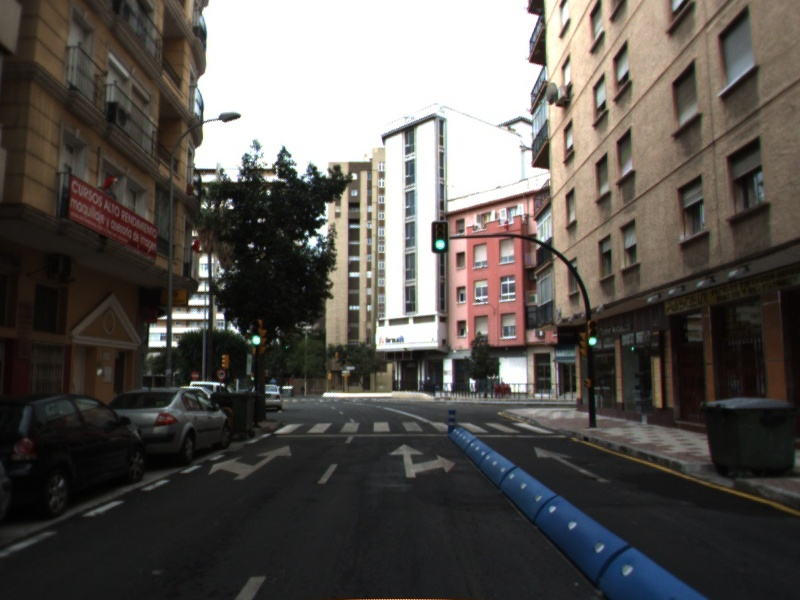STRAIGHT: (530, 444, 614, 485)
STRAIGHT_LEFT: (206, 442, 294, 482)
STRAIGHT_RIGHT: (386, 441, 458, 480)
